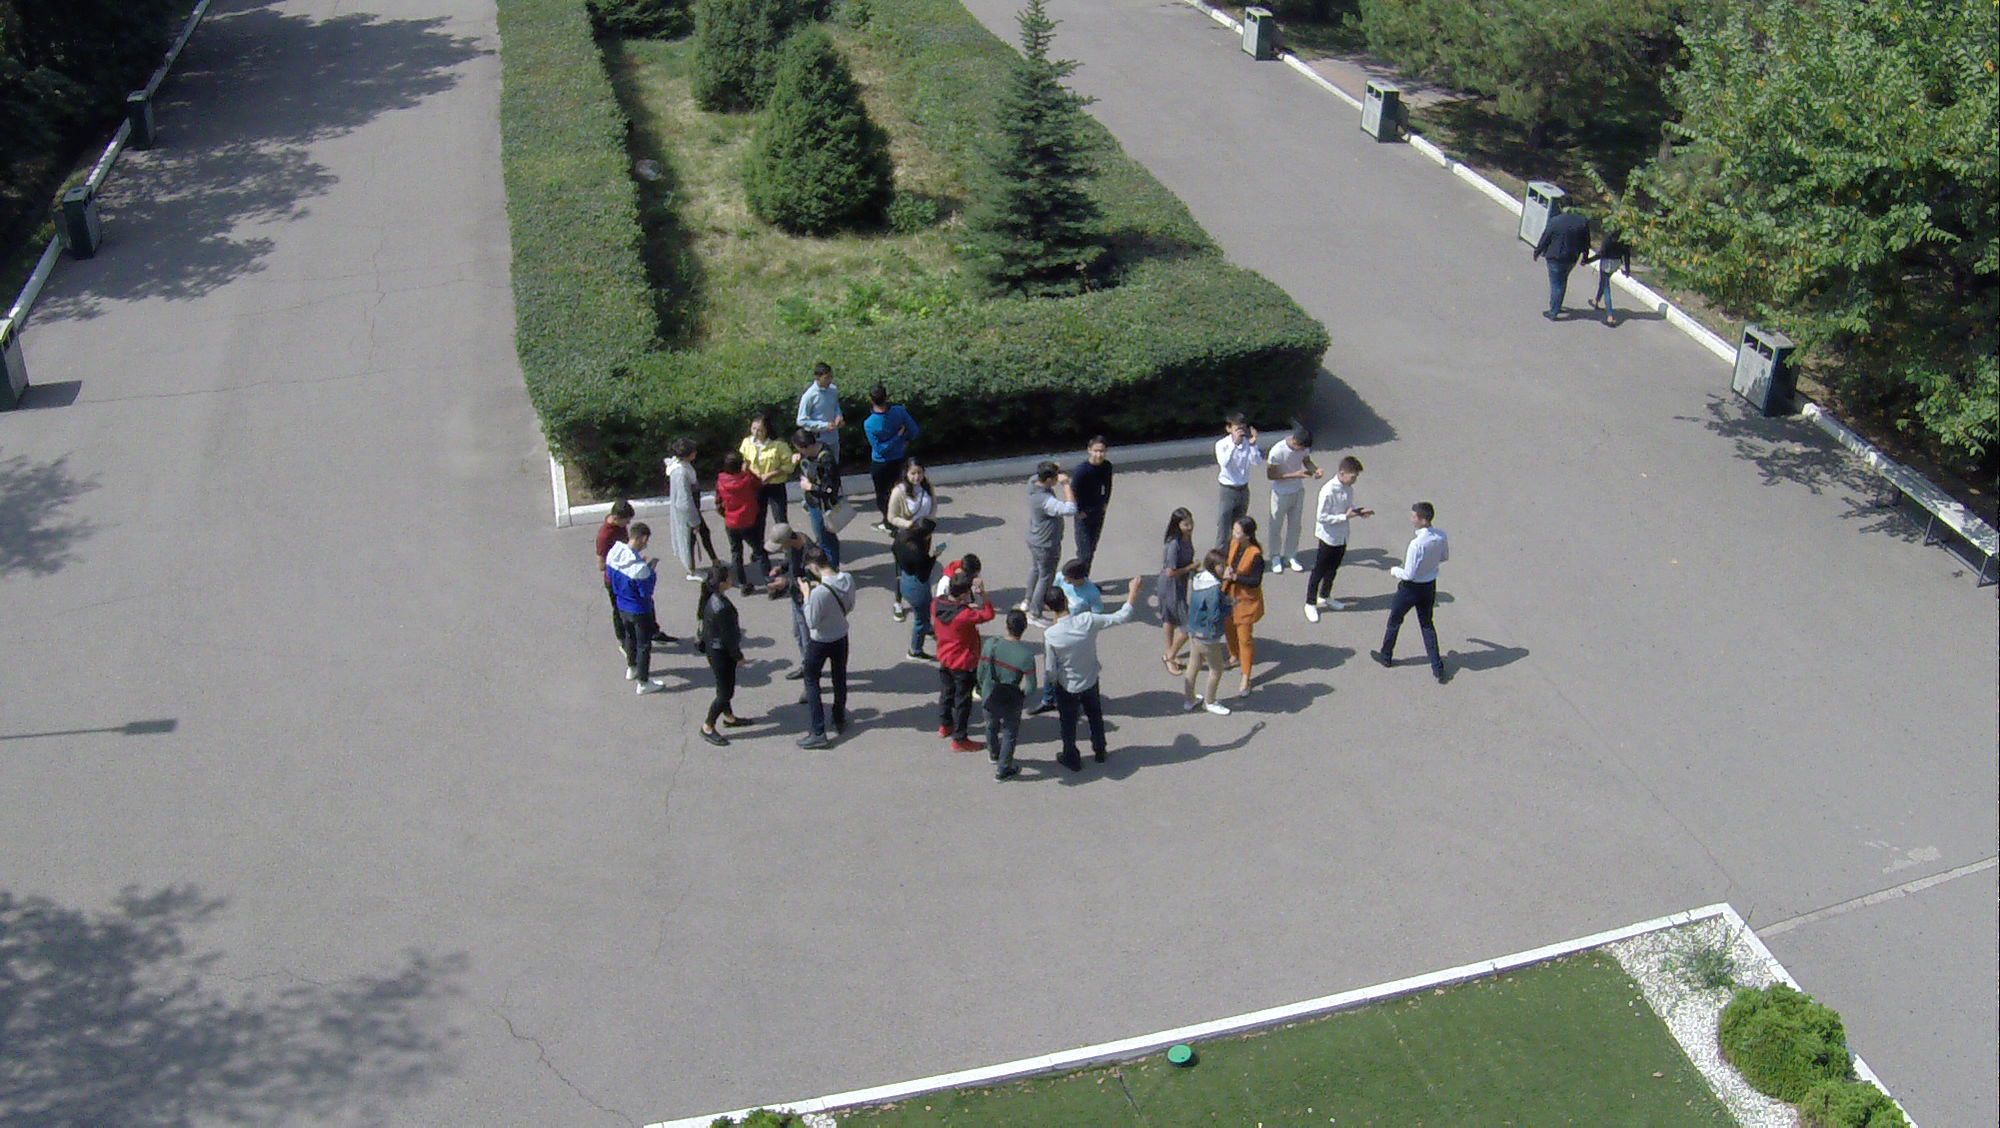person: (1374, 499, 1453, 680), (1041, 593, 1124, 766), (793, 553, 862, 751), (689, 566, 747, 755), (932, 572, 989, 747), (1012, 470, 1080, 618), (1316, 451, 1368, 639), (980, 614, 1037, 780), (610, 528, 666, 697), (1153, 501, 1207, 674), (1187, 551, 1237, 724), (1255, 428, 1307, 587), (743, 424, 799, 545), (670, 445, 718, 587), (722, 453, 766, 595), (864, 383, 920, 491), (1220, 503, 1256, 670), (893, 466, 941, 585), (801, 422, 841, 564), (1078, 441, 1120, 570), (1539, 193, 1578, 320), (1214, 418, 1262, 512), (1593, 233, 1630, 335), (801, 358, 841, 426), (597, 487, 628, 545)
